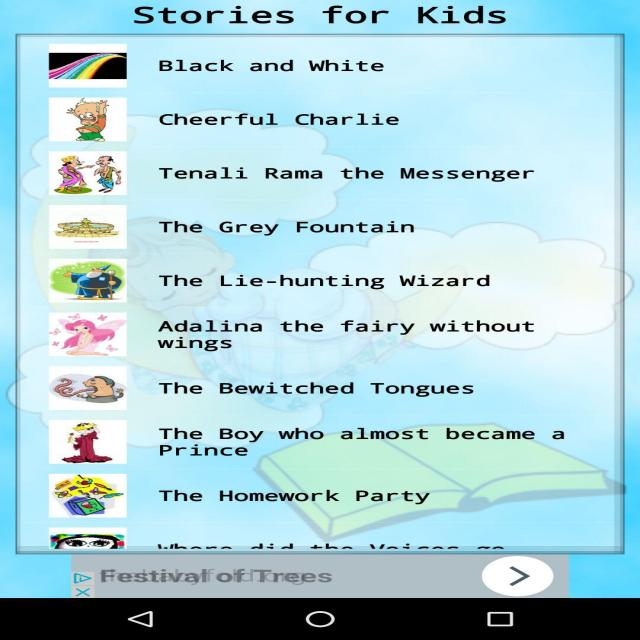button: (460, 556, 558, 598)
icon: (69, 571, 89, 597)
image: (7, 29, 640, 554), (47, 310, 139, 363), (42, 93, 134, 145), (41, 257, 137, 305), (43, 150, 132, 199), (41, 43, 139, 86), (45, 416, 126, 468), (45, 203, 132, 251), (49, 468, 128, 519), (50, 367, 130, 413), (48, 524, 130, 550)
text: (152, 312, 548, 357), (150, 423, 574, 460), (146, 160, 543, 193), (112, 2, 526, 31), (154, 376, 504, 408), (159, 209, 432, 247), (154, 268, 514, 295), (150, 49, 396, 88), (147, 103, 412, 139), (156, 485, 438, 513), (148, 538, 512, 555), (100, 564, 336, 590)
